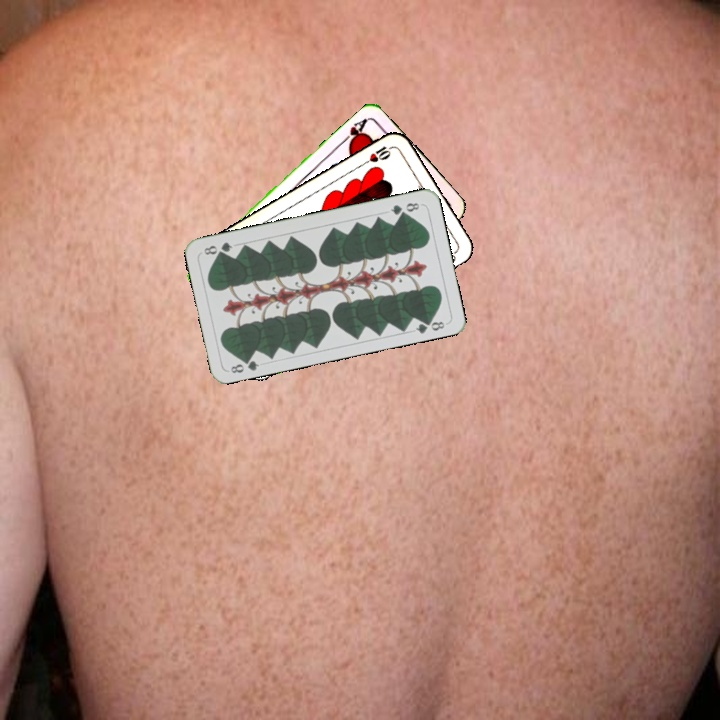G8: (226, 353, 262, 376), (387, 198, 424, 218)
H10: (359, 142, 396, 167)
HA: (338, 114, 371, 150)
